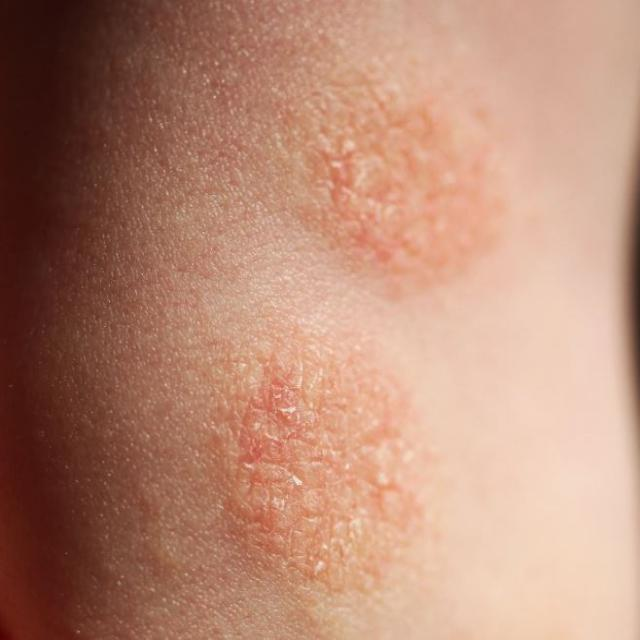Eczema: (216, 42, 503, 608)
